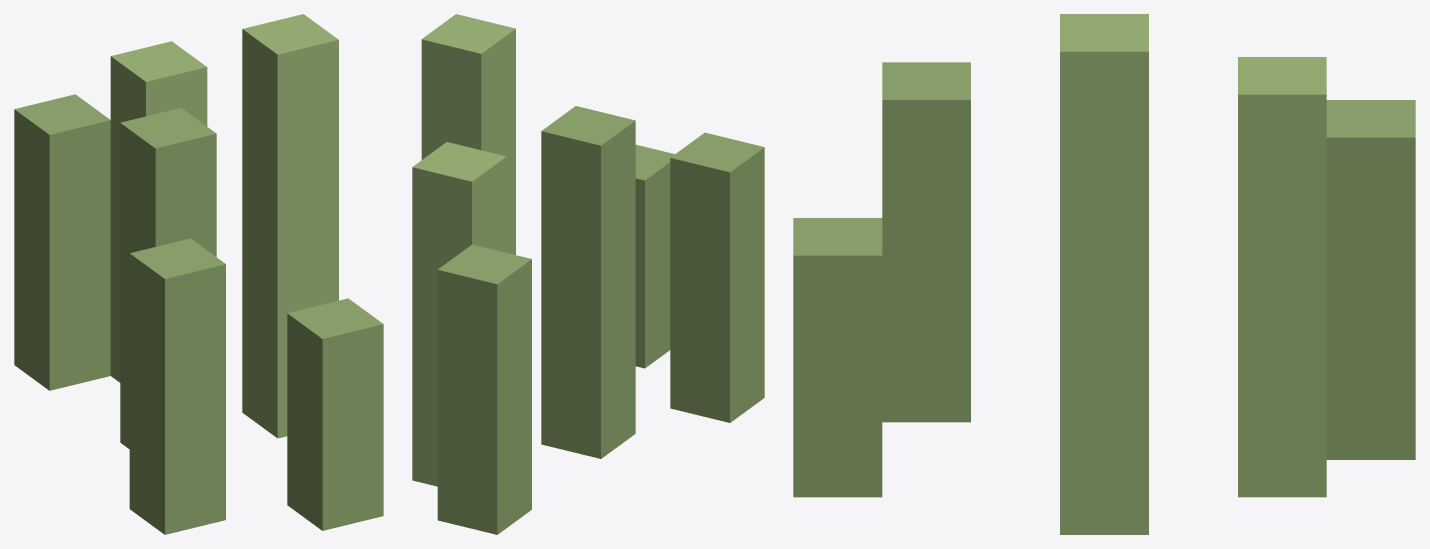
File: hierba_alta_02.glb
3 views of the same model, side by side, from view 1: azimuth 30°, elevation 25°; view 2: azimuth 150°, elevation 25°; view 3: azimuth 270°, elevation 25° (orthographic). The views are drawn at different scales.
Parts seen in each view (by area): view 1: hierba_alta_02; view 2: hierba_alta_02; view 3: hierba_alta_02.
Part boxes in pixels (x1,y1,x2,y2): hierba_alta_02: (14, 14, 383, 534); hierba_alta_02: (412, 14, 764, 534); hierba_alta_02: (793, 14, 1415, 534).
Bounding box in the file's own units: 0.4 × 0.6 × 0.7.
